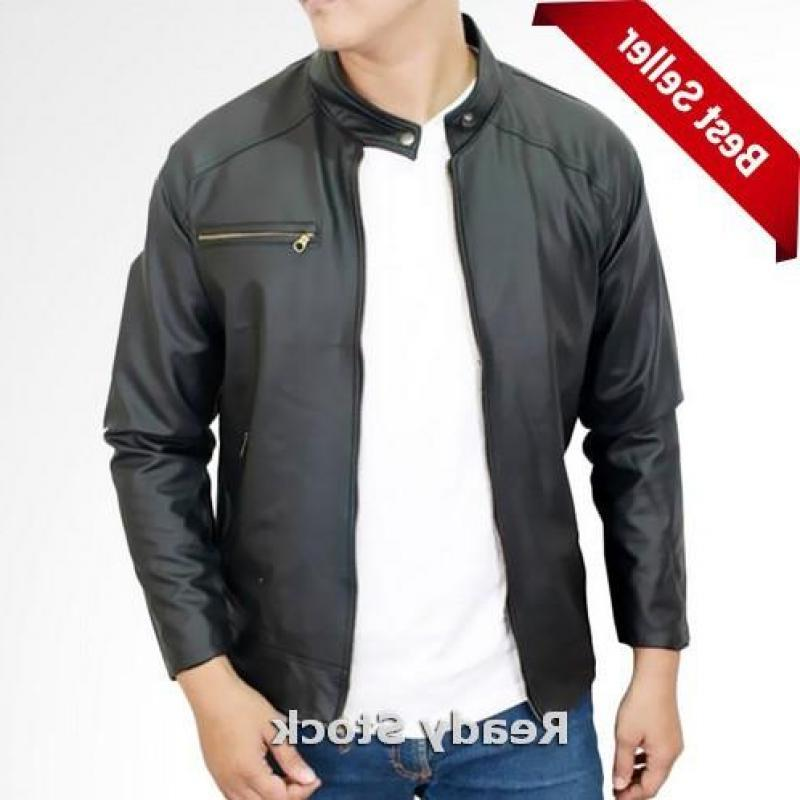jacket: (101, 9, 693, 731)
long sleeve shirt: (331, 78, 528, 731)
trousers: (268, 681, 609, 800)
